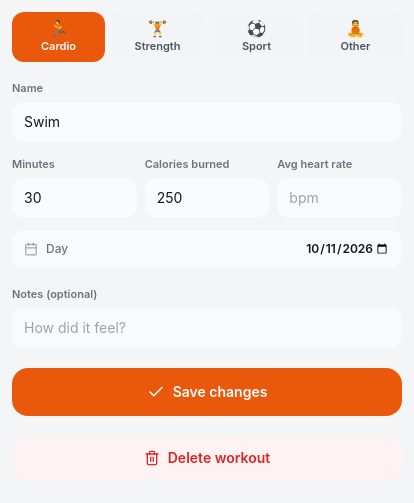
Test: WorkoutForm › moves a workout to another day
The width and height of the screenshot is (414, 503).
Later steps or results of the test are not shown.
Type "2026-10-09" into the date field named "Workout date" at coordinates (340, 249), box [291, 240, 390, 258]
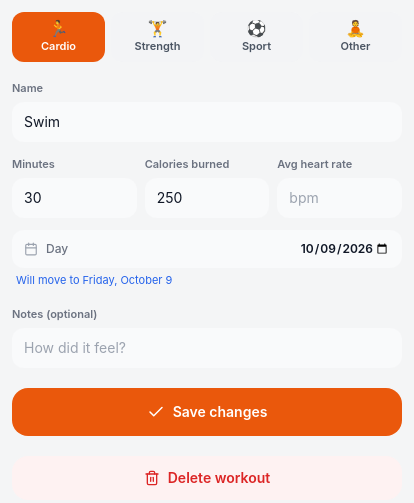
expect the text "Will move to Friday, October 9" is shown: met, box [16, 273, 172, 287]
